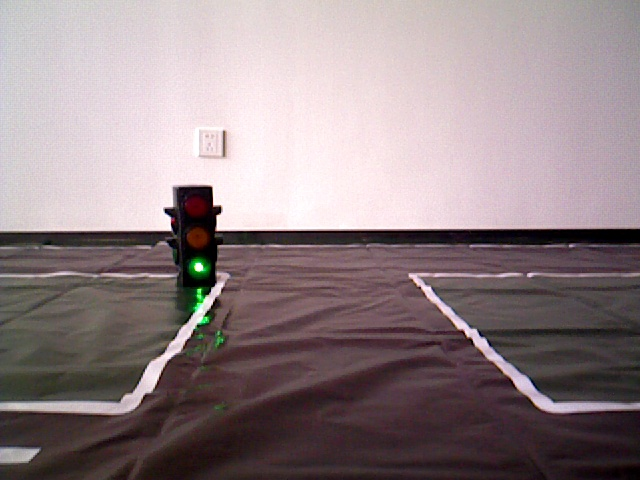green: (175, 188, 214, 283)
